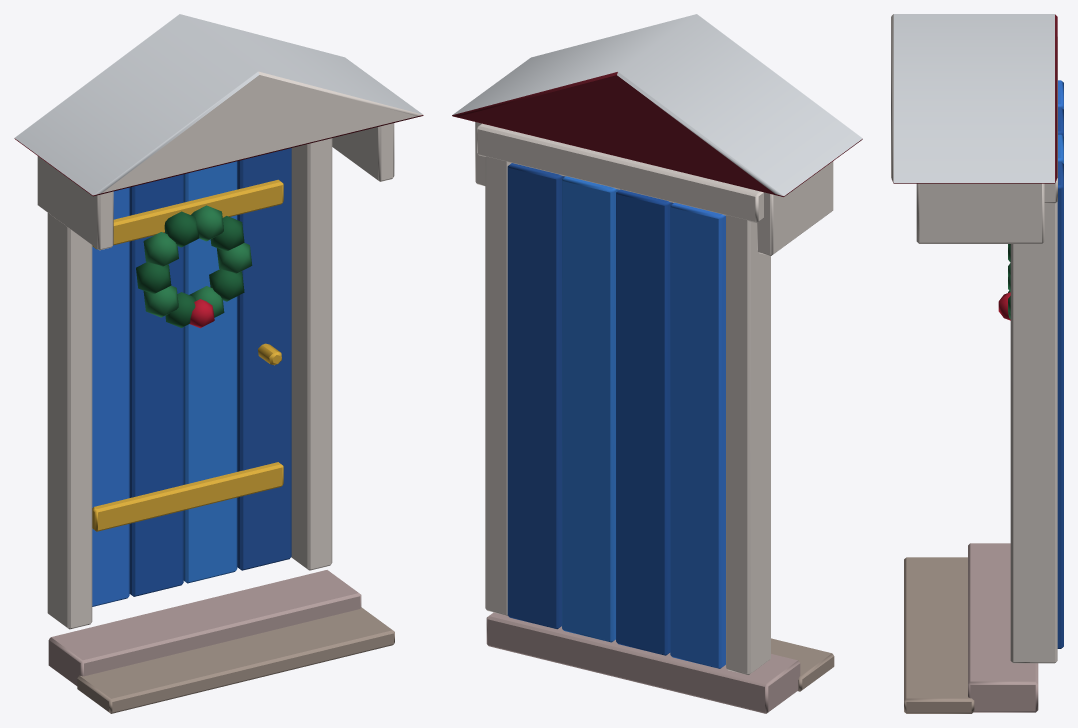
File: CandyHouse_Butter_Door.glb
3 renders of one model, left to right at view 1: azimuth 30°, elevation 25°; view 2: azimuth 150°, elevation 25°; view 3: azimuth 270°, elevation 25°, orthographic. The views are drawn at different scales.
Visible parts, largest first — view 1: CandyHouse_Butter_Door; view 2: CandyHouse_Butter_Door; view 3: CandyHouse_Butter_Door.
Part boxes in pixels (x1,y1,x2,y2): CandyHouse_Butter_Door: [14, 14, 423, 713]; CandyHouse_Butter_Door: [452, 14, 862, 713]; CandyHouse_Butter_Door: [891, 14, 1063, 713].
Bounding box in the file's own units: 6.13 × 10.85 × 2.7.
